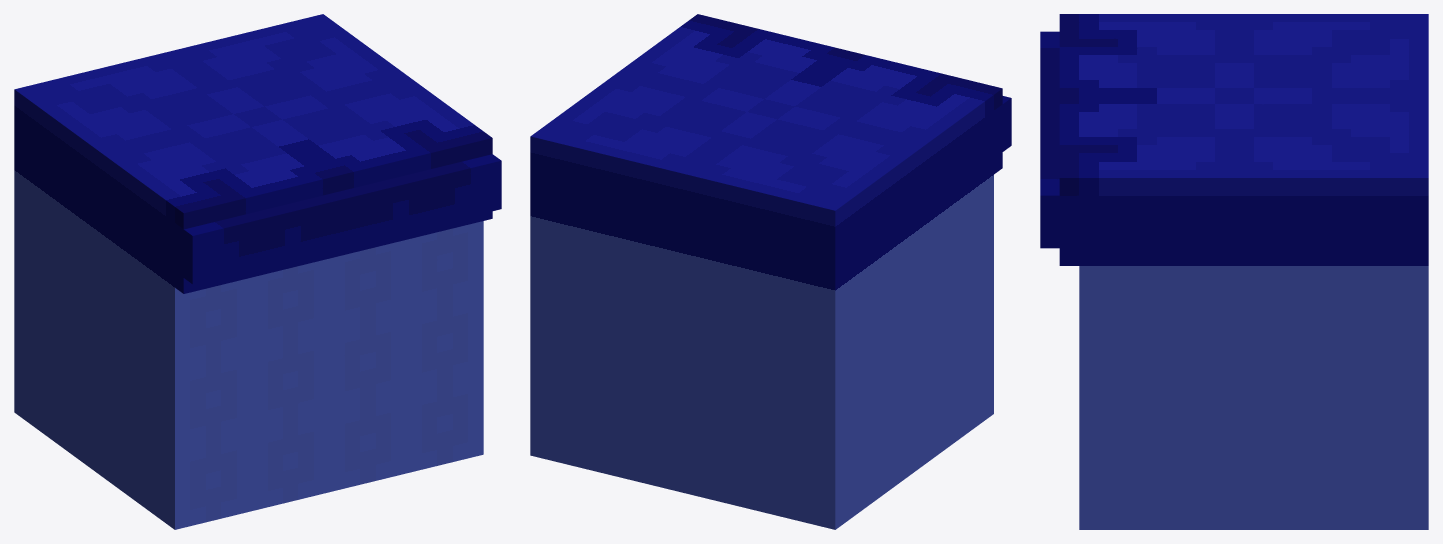
The model's file is full_top_edge2.glb.
3 renders of one model, left to right at view 1: azimuth 30°, elevation 25°; view 2: azimuth 150°, elevation 25°; view 3: azimuth 270°, elevation 25°, orthographic. The views are drawn at different scales.
Parts seen in each view (by area): view 1: full_top_edge; view 2: full_top_edge; view 3: full_top_edge.
Boxes of the visible parts, x1,y1,x2,y2 form: full_top_edge: [14, 14, 501, 529]; full_top_edge: [530, 14, 1011, 529]; full_top_edge: [1040, 14, 1428, 529].
Size of the model in its own units: 2 by 2 by 2.
1 material, 1 textured.
